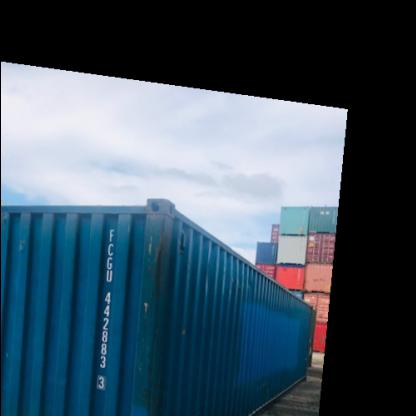Damage: (139, 224, 174, 328), (226, 272, 253, 294), (200, 262, 212, 298)
